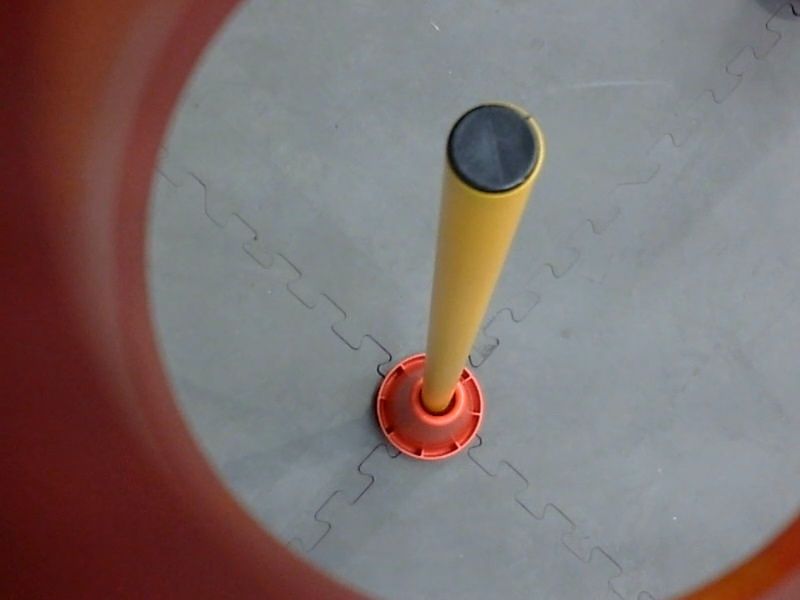tip: (435, 94, 549, 202)
